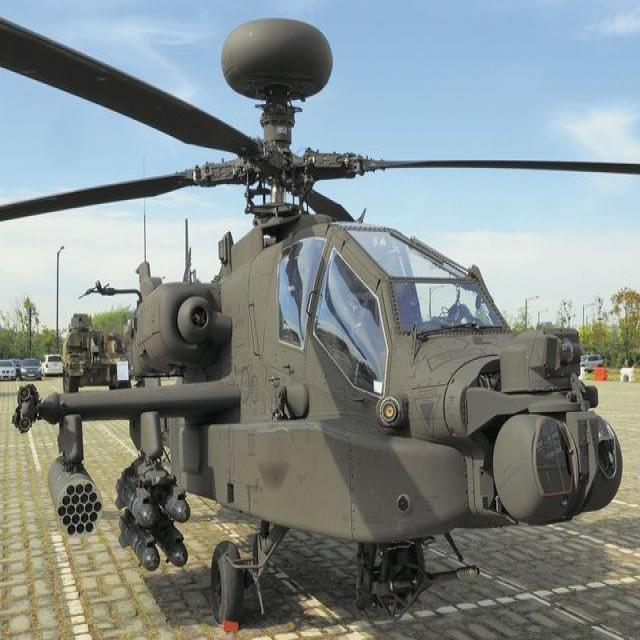MIL_HELO: (0, 7, 640, 630)
